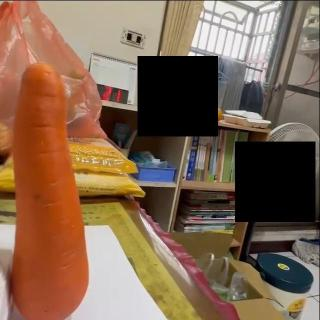carrot: (13, 62, 89, 320)
